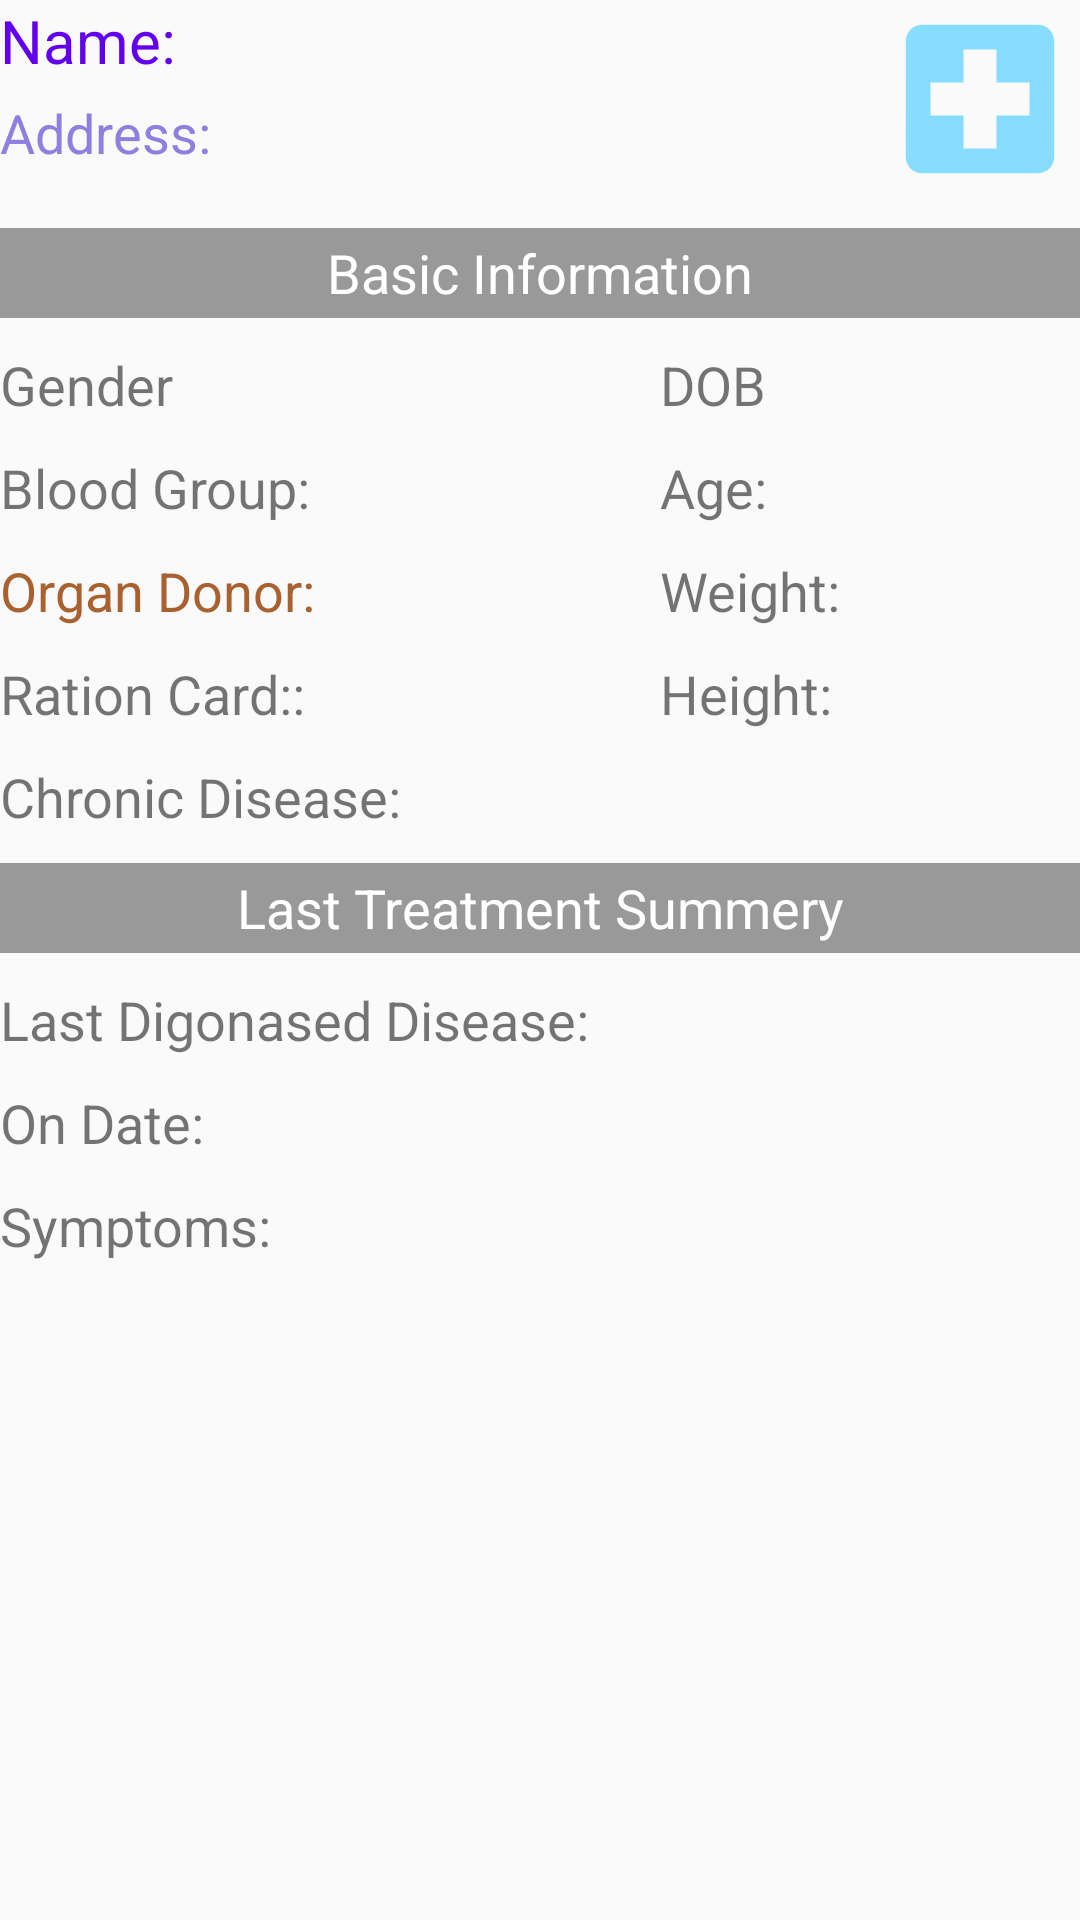

Named icons in this screenshot (1080w x 1920h) and their centers, (x=x, y=y):
local hospital: (x=980, y=99)
